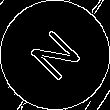N_SE: (23, 23, 87, 87)
